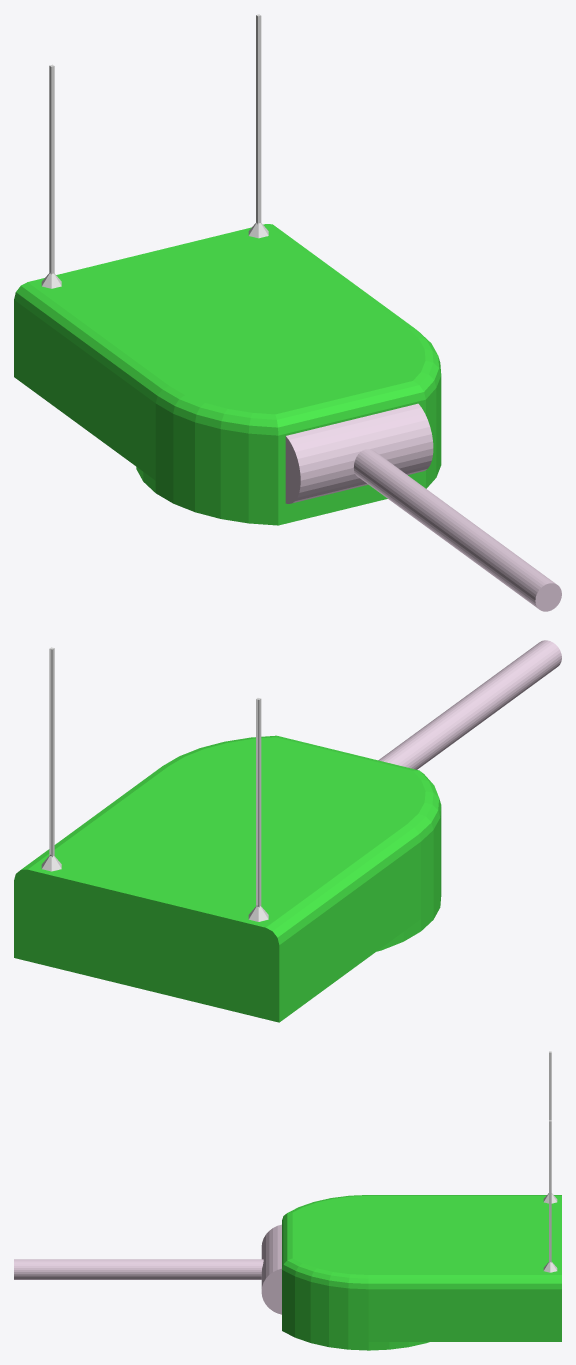
Rendered from cylindrical _turret_square_rack-v1.fbx.
The picture shows the model from 3 angles, top to bottom: view 1: azimuth 30°, elevation 25°; view 2: azimuth 150°, elevation 25°; view 3: azimuth 270°, elevation 25°; orthographic projection. The views are drawn at different scales.
Visible parts, largest first — view 1: Turret, Gun, Antannae; view 2: Turret, Gun, Antannae; view 3: Turret, Gun, Antannae.
Part boxes in pixels (x1,y1,x2,y2): Turret: (14,224,441,525); Gun: (285,403,561,611); Antannae: (41,14,268,288); Turret: (14,735,441,1022); Gun: (378,640,561,769); Antannae: (41,647,268,921); Turret: (282,1195,561,1350); Gun: (14,1224,281,1314); Antannae: (543,1051,557,1272).
Bounding box in the file's own units: 400 × 465 × 1049.
